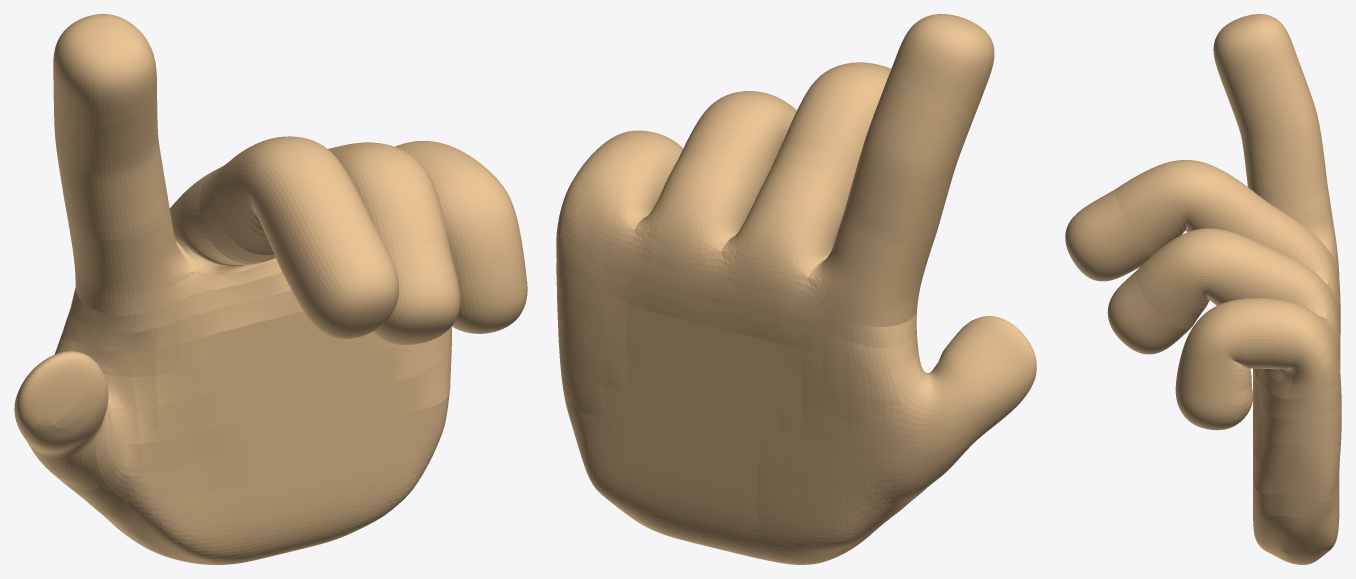
The model's file is interact.glb.
The picture shows the model from 3 angles, left to right: view 1: azimuth 30°, elevation 25°; view 2: azimuth 150°, elevation 25°; view 3: azimuth 270°, elevation 25°; orthographic projection. The views are drawn at different scales.
Parts seen in each view (by area): view 1: Cube; view 2: Cube; view 3: Cube.
Boxes of the visible parts, x1=… form: Cube: x1=14, y1=14, x2=527, y2=564; Cube: x1=556, y1=14, x2=1036, y2=564; Cube: x1=1065, y1=14, x2=1341, y2=564.
Size of the model in its own units: 2.56 by 3.03 by 1.7.
